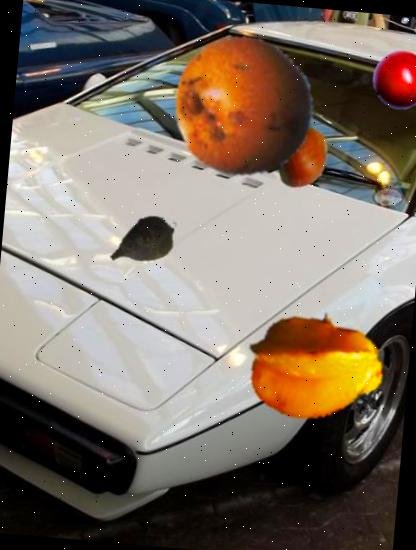Beetroot: (103, 202, 186, 285)
Carambula: (240, 290, 392, 442)
Granadilla: (168, 30, 323, 184)
Nut: (266, 118, 338, 190)
Tamarillo: (369, 47, 416, 112)
